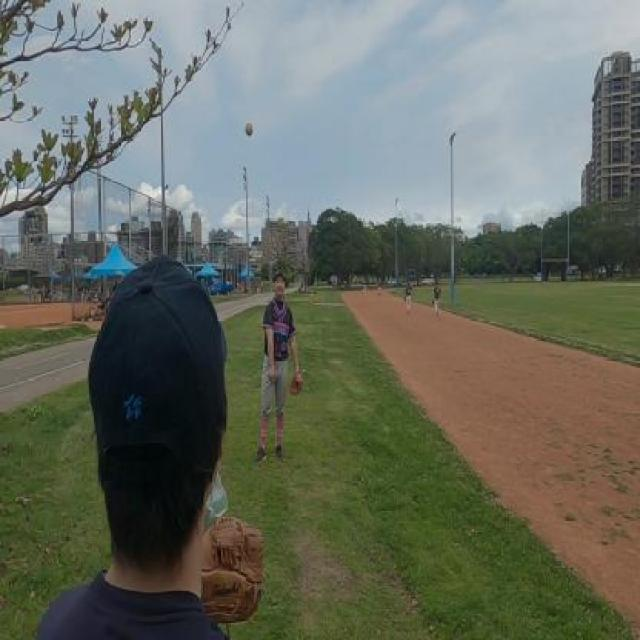baseball: (245, 121, 253, 137)
